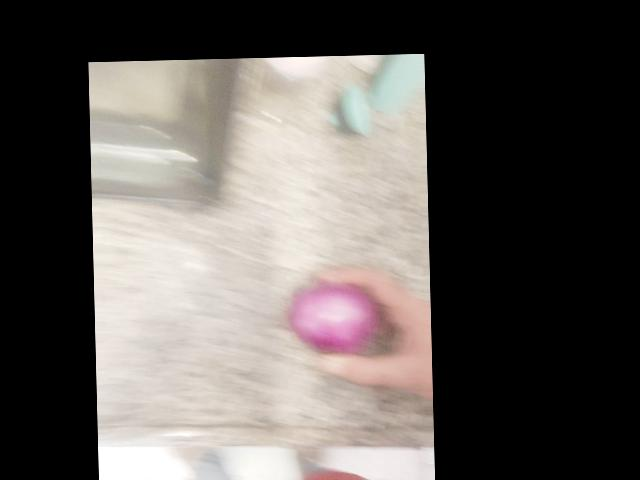onion: (129, 248, 205, 338)
